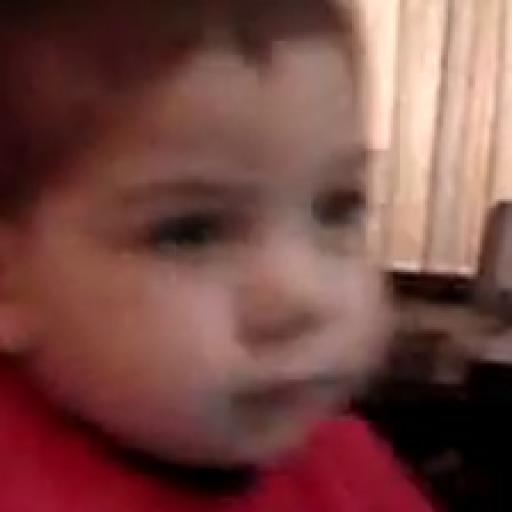Autism: (10, 6, 468, 512)
